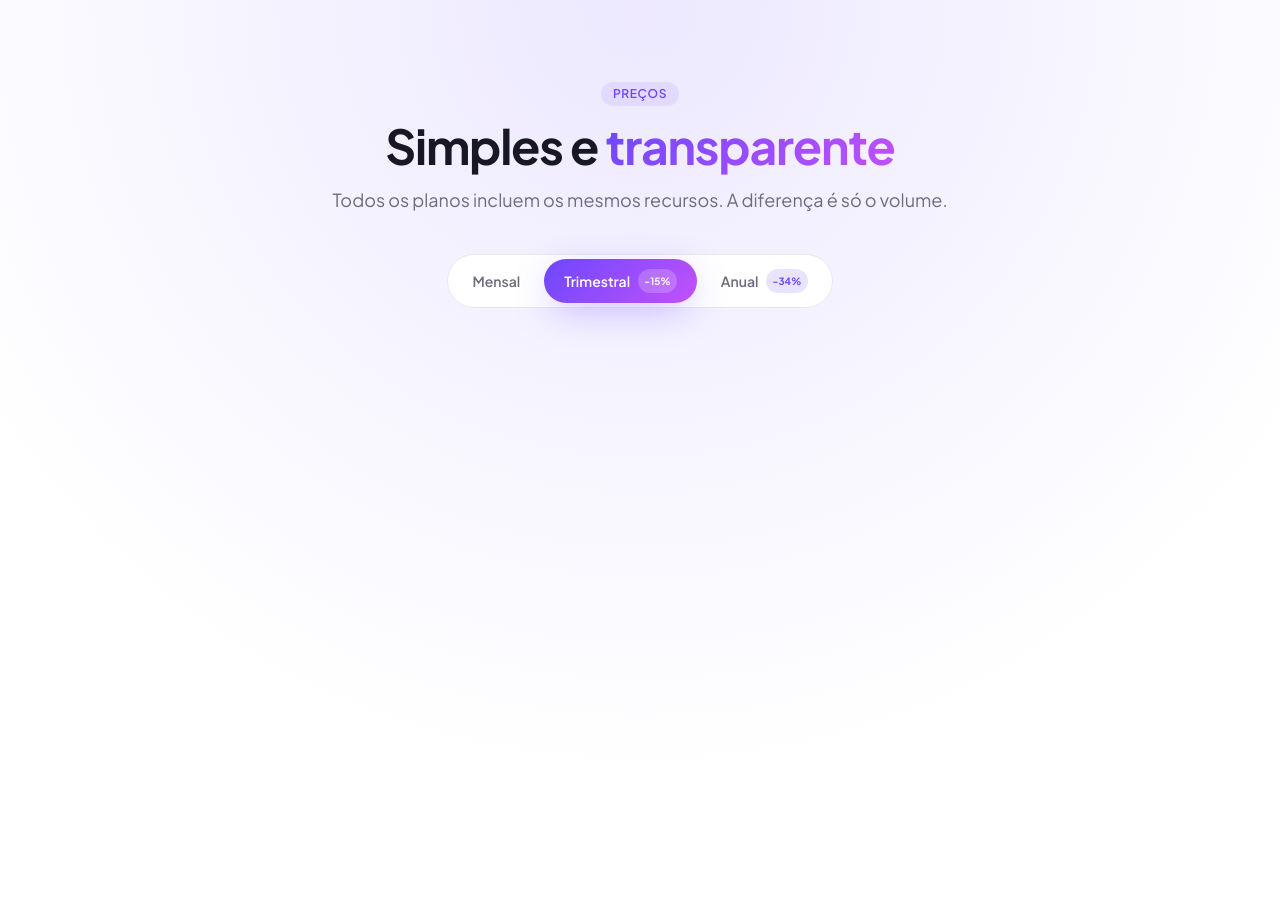
Scenario: home — metadados e promessas › cards mostram o preço anterior riscado e os descontos derivados da tabela
Expected: the text "-15%" is shown, [638,269,677,293]
Expected: the text "-34%" is shown, [766,269,808,293]
Click the button "Mensal": (496,281) [452,259,540,303]
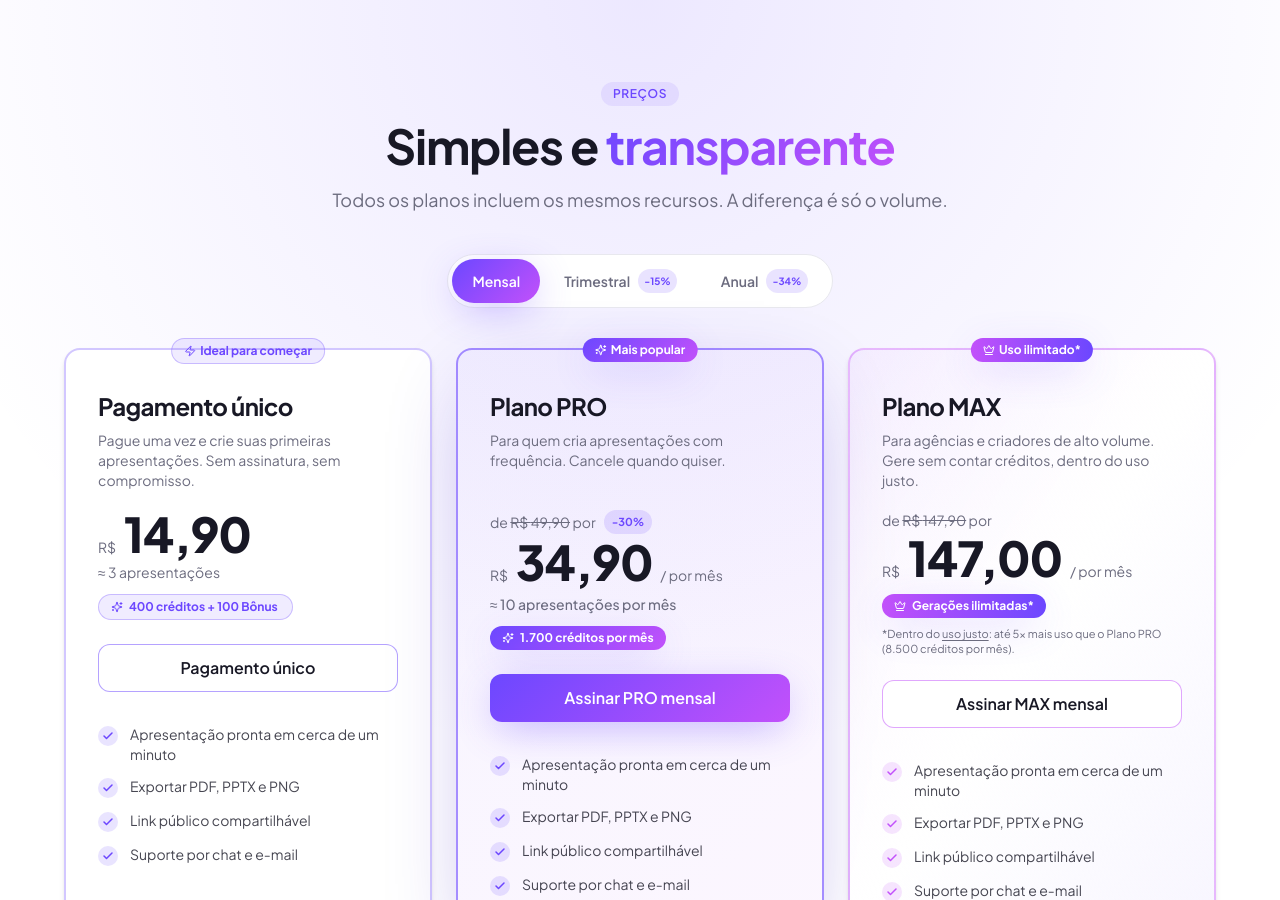
Expected: the text named "Preço anterior: R$ 49,90" is shown, [510,513,570,531]
Expected: the text "34,90" is shown, [516,538,652,586]
Expected: the text "147,00" is shown, [908,534,1062,582]
